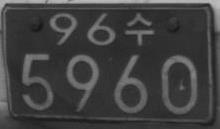0: (160, 54, 199, 116)
5: (21, 53, 54, 112)
6: (112, 54, 148, 114), (86, 13, 117, 47)
9: (65, 53, 100, 111), (49, 11, 78, 45)
수: (124, 12, 155, 46)
